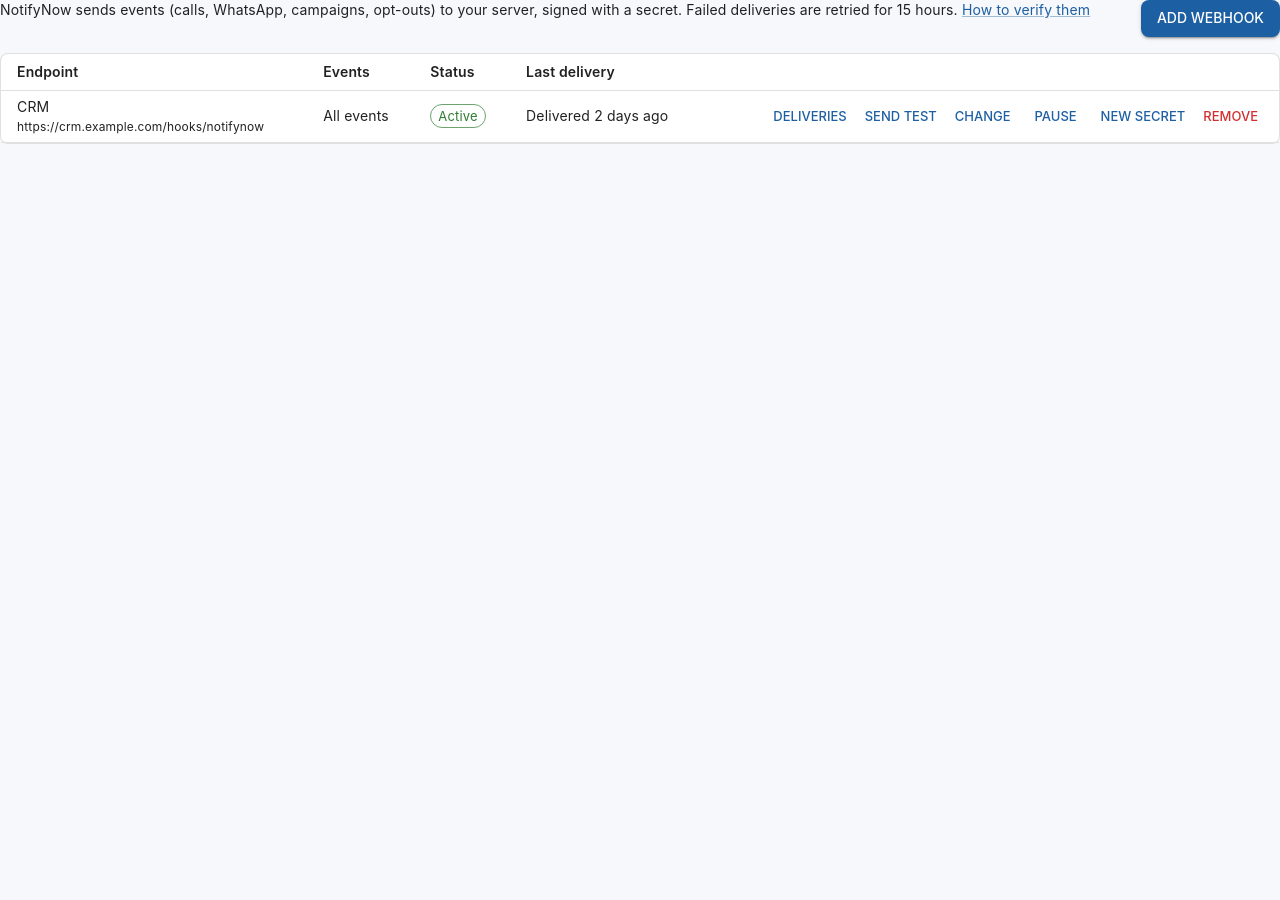
Scenario: Webhooks tab › changes an endpoint (no secret), and shows save errors
Click the button "Change" at point(983, 116), box left=950, top=101, right=1016, bottom=132
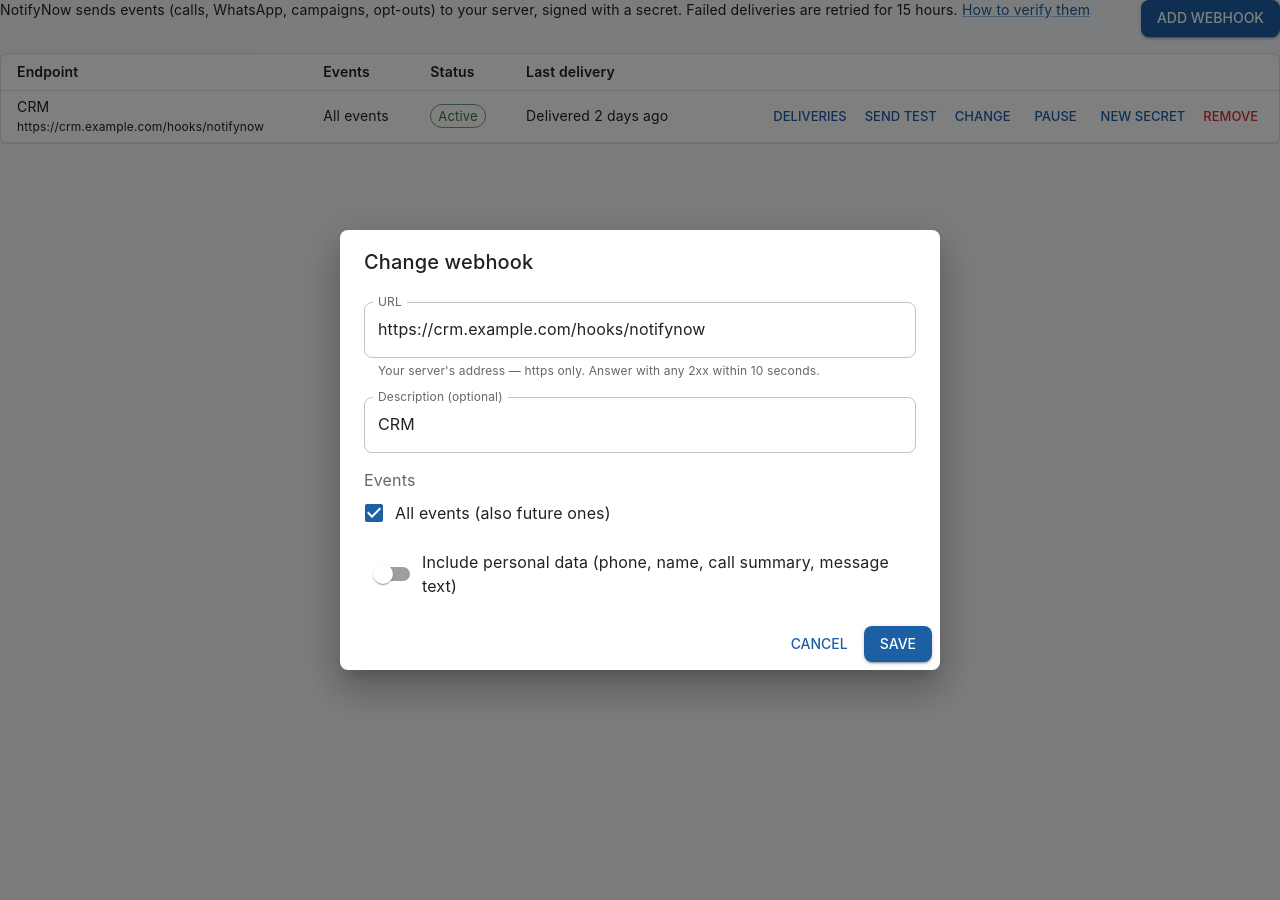
Now the field labelled "URL" holds "https://crm.example.com/hooks/notifynow", box left=364, top=302, right=916, bottom=358
Click the button "Save" at point(898, 644), box left=864, top=626, right=932, bottom=662
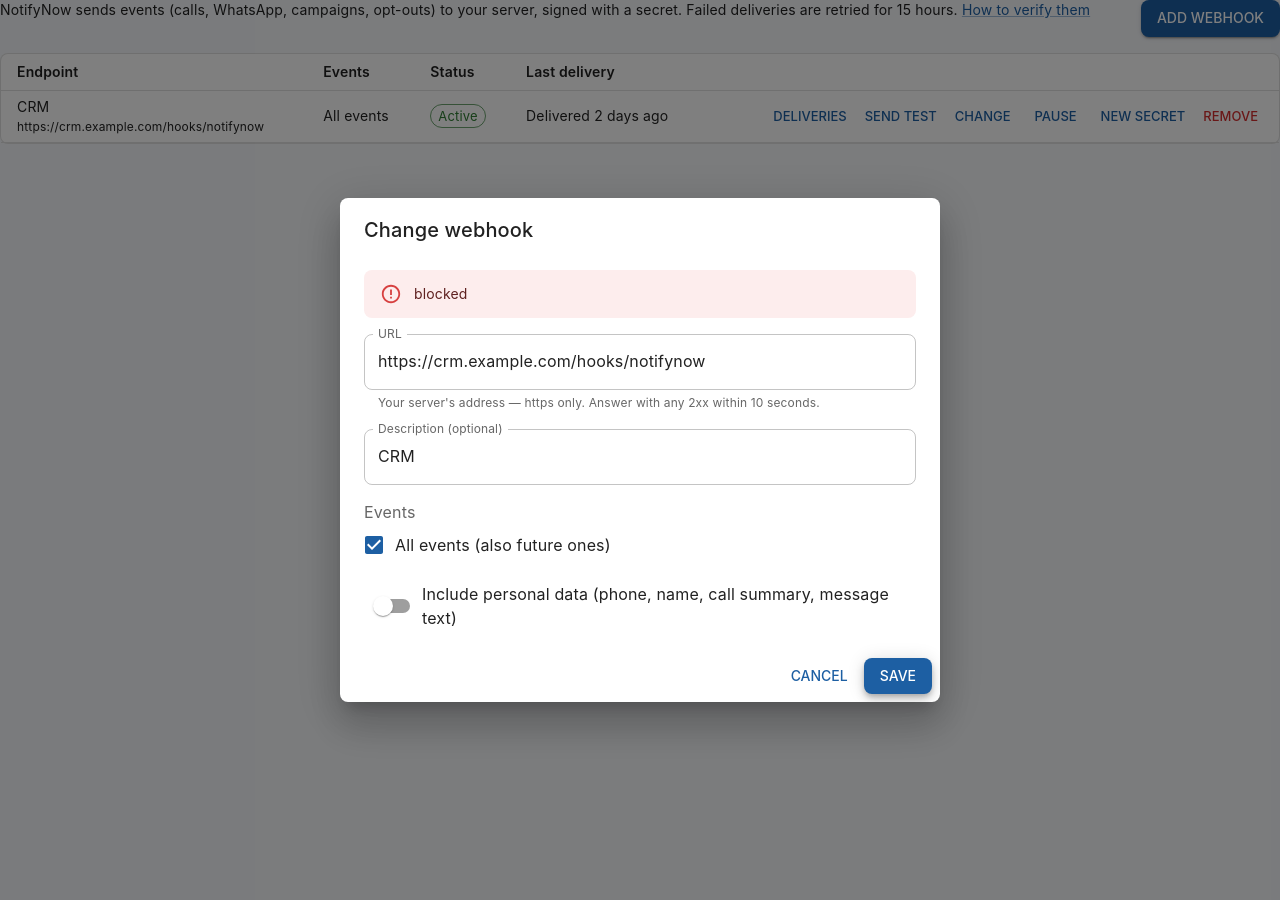
Now the message "blocked" is shown, box left=364, top=270, right=916, bottom=318
Click the button "Save" at point(898, 676), box left=864, top=658, right=932, bottom=694
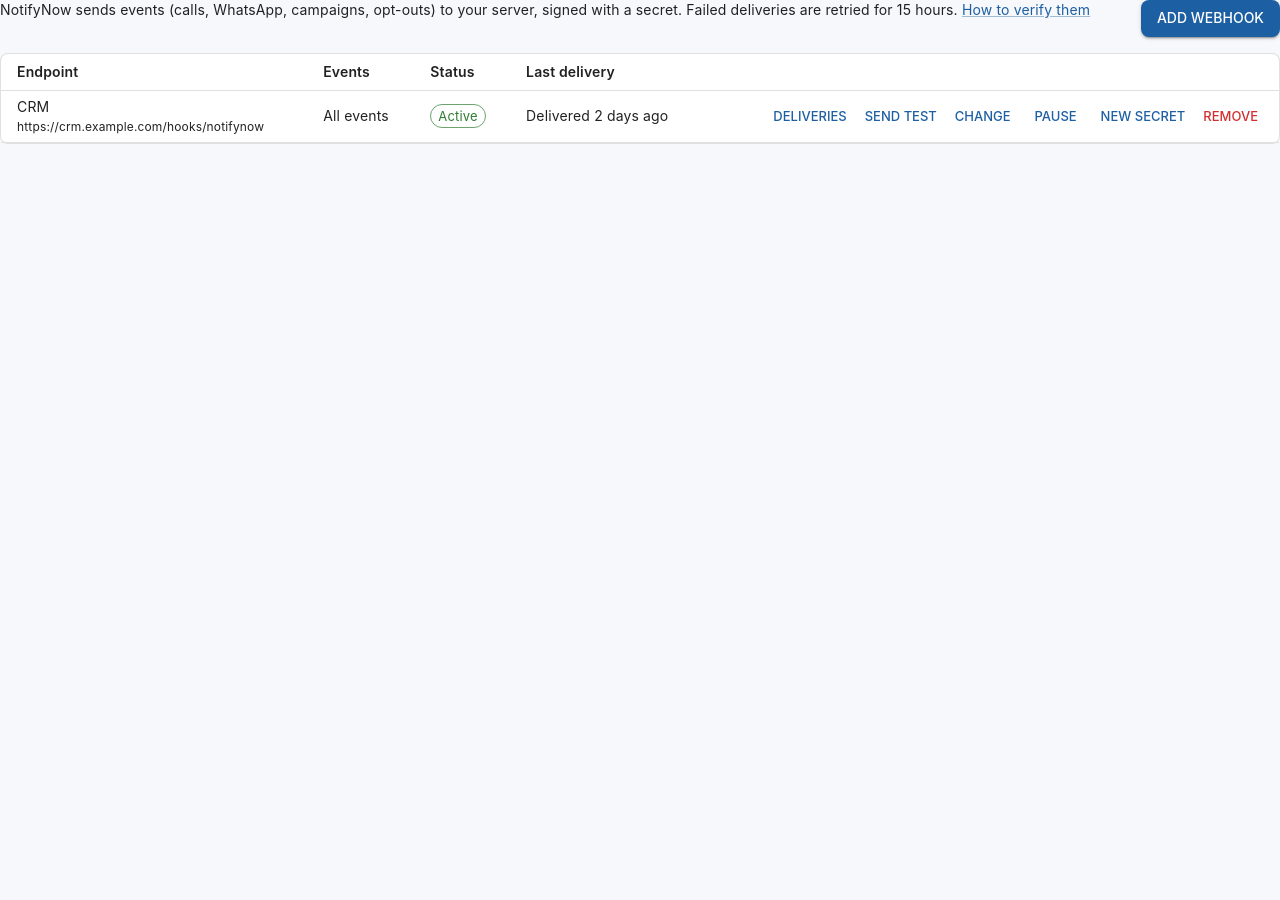
Now the dialog is gone
Click the button "Change" at point(983, 116), box left=950, top=101, right=1016, bottom=132
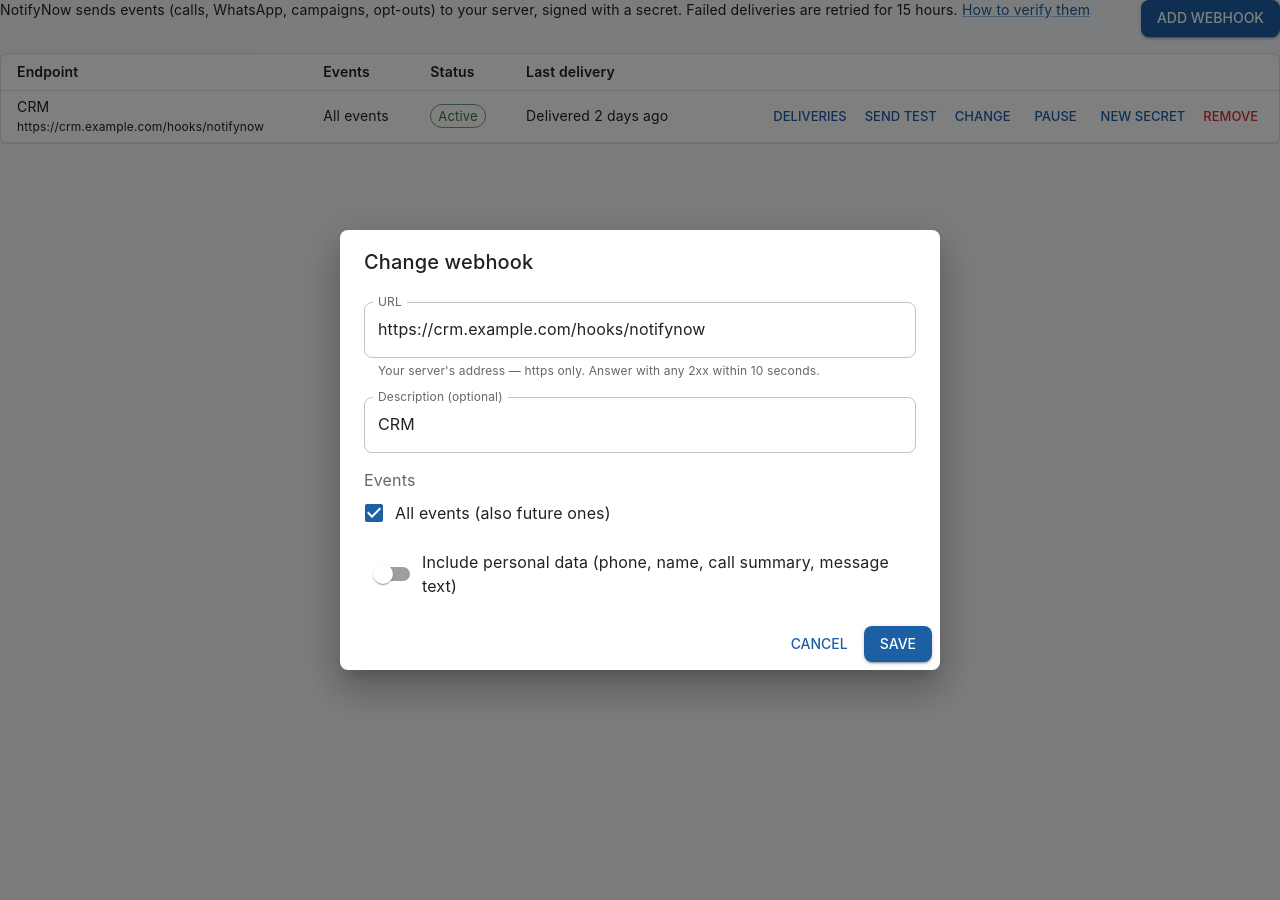
Click the button "Cancel" at point(819, 644), box left=783, top=626, right=856, bottom=662
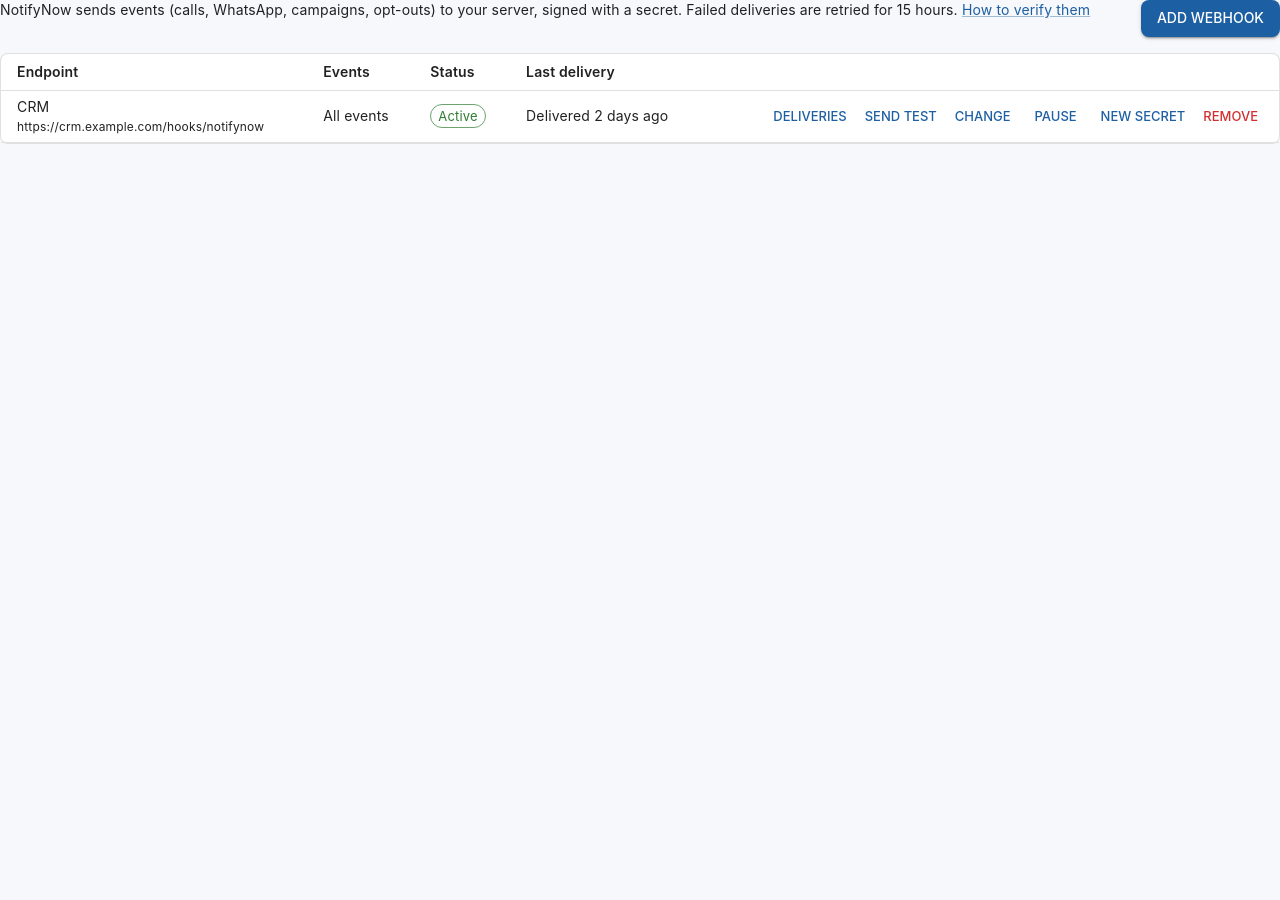
Now the dialog is gone
